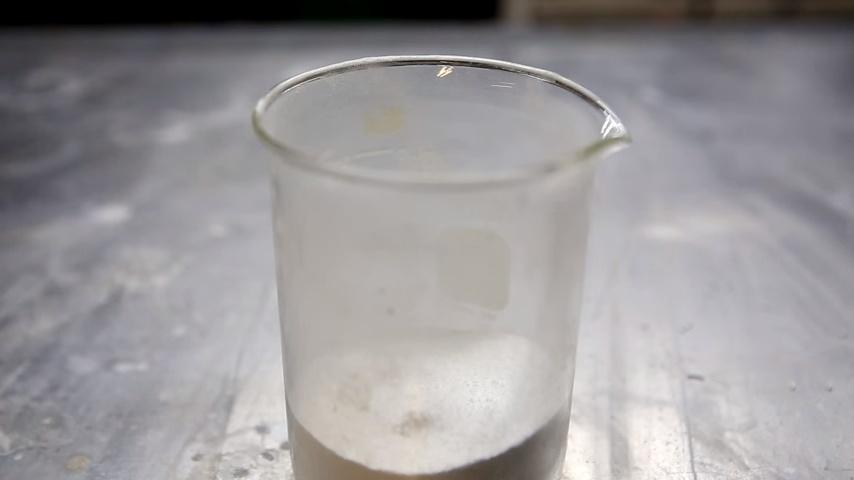Beaker: (236, 47, 635, 473)
